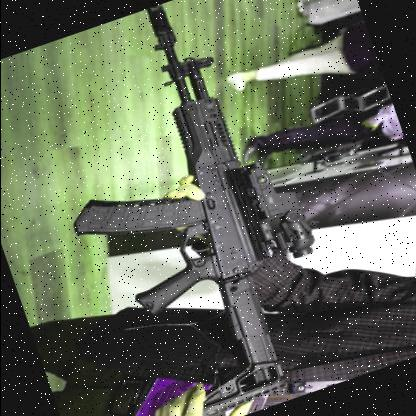rifle: (0, 0, 342, 416)
